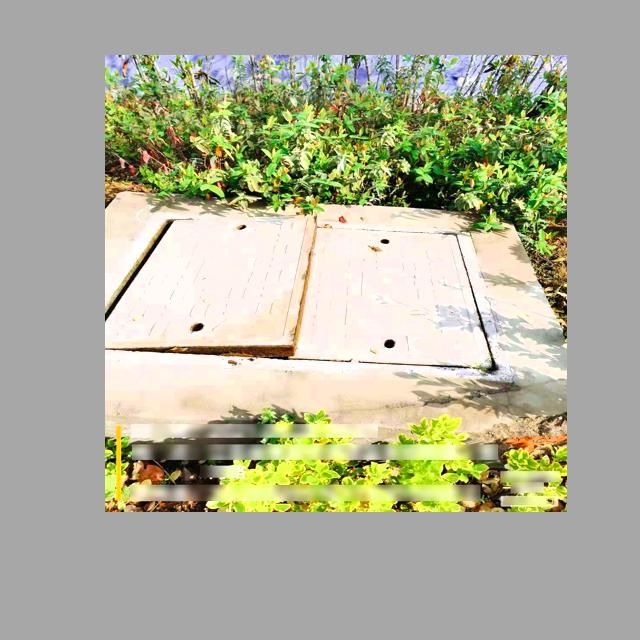uncovered: (105, 212, 514, 380)
